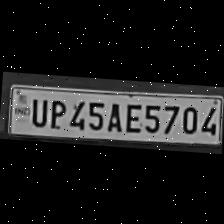0: (178, 102, 198, 134)
4: (199, 101, 219, 135), (66, 96, 86, 129)
5: (84, 96, 106, 130), (140, 99, 162, 132)
7: (160, 101, 178, 133)
A: (103, 97, 123, 130)
E: (122, 99, 142, 132)
P: (46, 94, 66, 128)
U: (27, 94, 47, 126)
